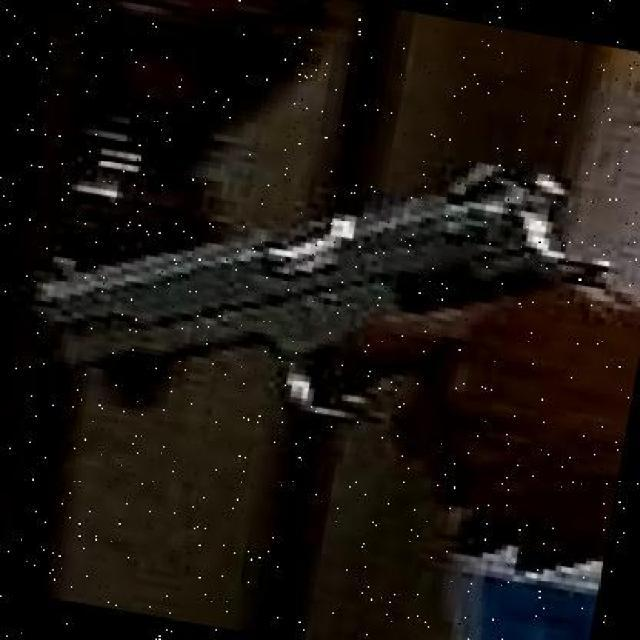rifle: (25, 158, 602, 390)
